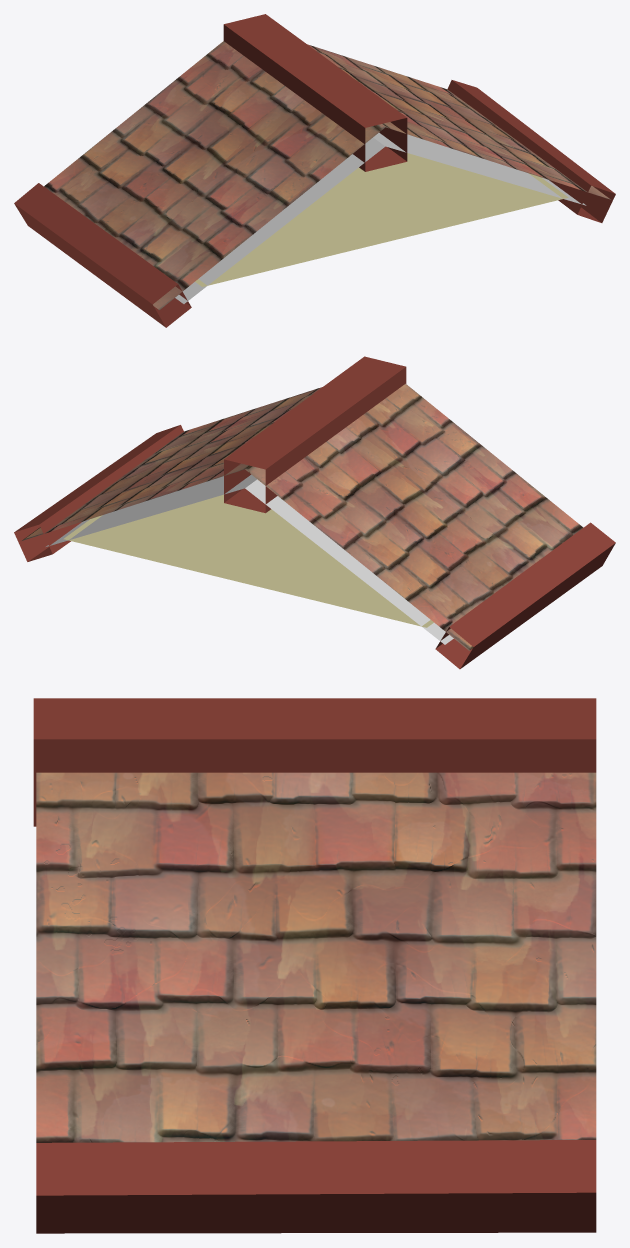
Rendered from roof_6x2x4.fbx.
The picture shows the model from 3 angles, top to bottom: view 1: azimuth 30°, elevation 25°; view 2: azimuth 150°, elevation 25°; view 3: azimuth 270°, elevation 25°; orthographic projection. The views are drawn at different scales.
Parts seen in each view (by area): view 1: roof_6x2x4; view 2: roof_6x2x4; view 3: roof_6x2x4.
Boxes of the visible parts, x1,y1,x2,y2 form: roof_6x2x4: [14, 14, 615, 327]; roof_6x2x4: [14, 356, 615, 669]; roof_6x2x4: [33, 698, 596, 1233].
Size of the model in its own units: 762 by 241 by 402.
